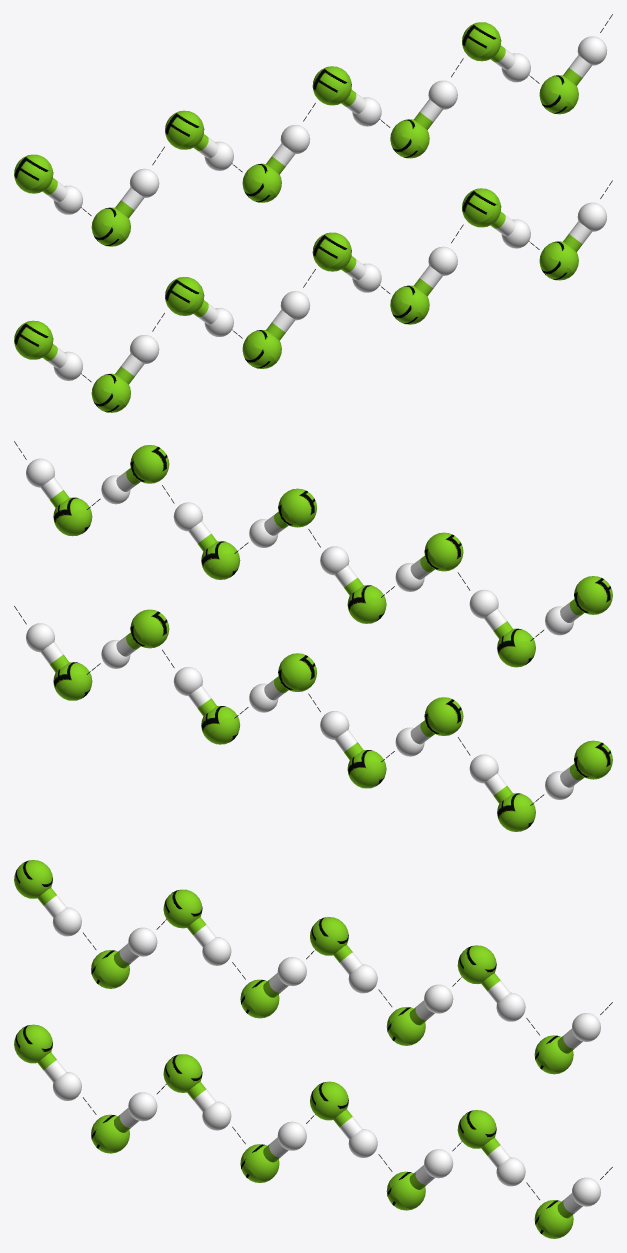
File: acido fluorhidrico.obj
3 renders of one model, top to bottom at view 1: azimuth 30°, elevation 25°; view 2: azimuth 150°, elevation 25°; view 3: azimuth 330°, elevation 25°, orthographic.
Parts seen in each view (by area): view 1: Shape_IndexedFaceSet.006_Shape_IndexedFaceSet.013, Shape_IndexedFaceSet.030_Shape_IndexedFaceSet.078, Shape_IndexedFaceSet.002_Shape_IndexedFaceSet.009, Shape_IndexedFaceSet.026_Shape_IndexedFaceSet.074, Shape_IndexedFaceSet.014_Shape_IndexedFaceSet.025, Shape_IndexedFaceSet.018_Shape_IndexedFaceSet.029, Shape_IndexedFaceSet.010_Shape_IndexedFaceSet.019, Shape_IndexedFaceSet.022_Shape_IndexedFaceSet.070, Shape_IndexedFaceSet.004_Shape_IndexedFaceSet.011, Shape_IndexedFaceSet.032_Shape_IndexedFaceSet.080, Shape_IndexedFaceSet.008_Shape_IndexedFaceSet.017, Shape_IndexedFaceSet.020_Shape_IndexedFaceSet.031 (+20 smaller); view 2: Shape_IndexedFaceSet.002_Shape_IndexedFaceSet.009, Shape_IndexedFaceSet.010_Shape_IndexedFaceSet.019, Shape_IndexedFaceSet.006_Shape_IndexedFaceSet.013, Shape_IndexedFaceSet.022_Shape_IndexedFaceSet.070, Shape_IndexedFaceSet.026_Shape_IndexedFaceSet.074, Shape_IndexedFaceSet.030_Shape_IndexedFaceSet.078, Shape_IndexedFaceSet.014_Shape_IndexedFaceSet.025, Shape_IndexedFaceSet.018_Shape_IndexedFaceSet.029, Shape_IndexedFaceSet.028_Shape_IndexedFaceSet.076, Shape_IndexedFaceSet.016_Shape_IndexedFaceSet.027, Shape_IndexedFaceSet.012_Shape_IndexedFaceSet.021, Shape_IndexedFaceSet.008_Shape_IndexedFaceSet.017 (+20 smaller); view 3: Shape_IndexedFaceSet.004_Shape_IndexedFaceSet.011, Shape_IndexedFaceSet.024_Shape_IndexedFaceSet.072, Shape_IndexedFaceSet.028_Shape_IndexedFaceSet.076, Shape_IndexedFaceSet.008_Shape_IndexedFaceSet.017, Shape_IndexedFaceSet.012_Shape_IndexedFaceSet.021, Shape_IndexedFaceSet.016_Shape_IndexedFaceSet.027, Shape_IndexedFaceSet.020_Shape_IndexedFaceSet.031, Shape_IndexedFaceSet.032_Shape_IndexedFaceSet.080, Shape_IndexedFaceSet.026_Shape_IndexedFaceSet.074, Shape_IndexedFaceSet.022_Shape_IndexedFaceSet.070, Shape_IndexedFaceSet.002_Shape_IndexedFaceSet.009, Shape_IndexedFaceSet.006_Shape_IndexedFaceSet.013 (+20 smaller).
Part boxes in pixels (left/top/right/bottom): Shape_IndexedFaceSet.006_Shape_IndexedFaceSet.013: left=539, top=234, right=582, bottom=280; Shape_IndexedFaceSet.030_Shape_IndexedFaceSet.078: left=91, top=200, right=134, bottom=246; Shape_IndexedFaceSet.002_Shape_IndexedFaceSet.009: left=390, top=278, right=433, bottom=324; Shape_IndexedFaceSet.026_Shape_IndexedFaceSet.074: left=242, top=156, right=285, bottom=202; Shape_IndexedFaceSet.014_Shape_IndexedFaceSet.025: left=91, top=366, right=134, bottom=412; Shape_IndexedFaceSet.018_Shape_IndexedFaceSet.029: left=390, top=112, right=433, bottom=158; Shape_IndexedFaceSet.010_Shape_IndexedFaceSet.019: left=242, top=322, right=285, bottom=368; Shape_IndexedFaceSet.022_Shape_IndexedFaceSet.070: left=539, top=68, right=582, bottom=114; Shape_IndexedFaceSet.004_Shape_IndexedFaceSet.011: left=312, top=232, right=356, bottom=272; Shape_IndexedFaceSet.032_Shape_IndexedFaceSet.080: left=14, top=154, right=57, bottom=194; Shape_IndexedFaceSet.008_Shape_IndexedFaceSet.017: left=462, top=188, right=505, bottom=228; Shape_IndexedFaceSet.020_Shape_IndexedFaceSet.031: left=312, top=66, right=356, bottom=106; Shape_IndexedFaceSet.002_Shape_IndexedFaceSet.009: left=197, top=698, right=240, bottom=744; Shape_IndexedFaceSet.010_Shape_IndexedFaceSet.019: left=344, top=742, right=386, bottom=788; Shape_IndexedFaceSet.006_Shape_IndexedFaceSet.013: left=50, top=654, right=92, bottom=700; Shape_IndexedFaceSet.022_Shape_IndexedFaceSet.070: left=50, top=490, right=92, bottom=536; Shape_IndexedFaceSet.026_Shape_IndexedFaceSet.074: left=344, top=577, right=386, bottom=623; Shape_IndexedFaceSet.030_Shape_IndexedFaceSet.078: left=493, top=621, right=535, bottom=667; Shape_IndexedFaceSet.014_Shape_IndexedFaceSet.025: left=493, top=786, right=535, bottom=831; Shape_IndexedFaceSet.018_Shape_IndexedFaceSet.029: left=198, top=533, right=240, bottom=579; Shape_IndexedFaceSet.028_Shape_IndexedFaceSet.076: left=420, top=532, right=463, bottom=572; Shape_IndexedFaceSet.016_Shape_IndexedFaceSet.027: left=569, top=740, right=612, bottom=780; Shape_IndexedFaceSet.012_Shape_IndexedFaceSet.021: left=420, top=697, right=463, bottom=736; Shape_IndexedFaceSet.008_Shape_IndexedFaceSet.017: left=126, top=609, right=169, bottom=649; Shape_IndexedFaceSet.004_Shape_IndexedFaceSet.011: left=310, top=1081, right=352, bottom=1127; Shape_IndexedFaceSet.024_Shape_IndexedFaceSet.072: left=457, top=945, right=500, bottom=991; Shape_IndexedFaceSet.028_Shape_IndexedFaceSet.076: left=163, top=889, right=206, bottom=935; Shape_IndexedFaceSet.008_Shape_IndexedFaceSet.017: left=457, top=1110, right=500, bottom=1155; Shape_IndexedFaceSet.012_Shape_IndexedFaceSet.021: left=163, top=1054, right=206, bottom=1099; Shape_IndexedFaceSet.016_Shape_IndexedFaceSet.027: left=14, top=1024, right=56, bottom=1070; Shape_IndexedFaceSet.020_Shape_IndexedFaceSet.031: left=310, top=917, right=352, bottom=962; Shape_IndexedFaceSet.032_Shape_IndexedFaceSet.080: left=14, top=860, right=56, bottom=905; Shape_IndexedFaceSet.026_Shape_IndexedFaceSet.074: left=240, top=979, right=280, bottom=1018; Shape_IndexedFaceSet.022_Shape_IndexedFaceSet.070: left=534, top=1035, right=574, bottom=1074; Shape_IndexedFaceSet.002_Shape_IndexedFaceSet.009: left=386, top=1171, right=426, bottom=1210; Shape_IndexedFaceSet.006_Shape_IndexedFaceSet.013: left=534, top=1200, right=574, bottom=1238.
Size of the model in its own units: 118 by 56.09 by 6.76.
